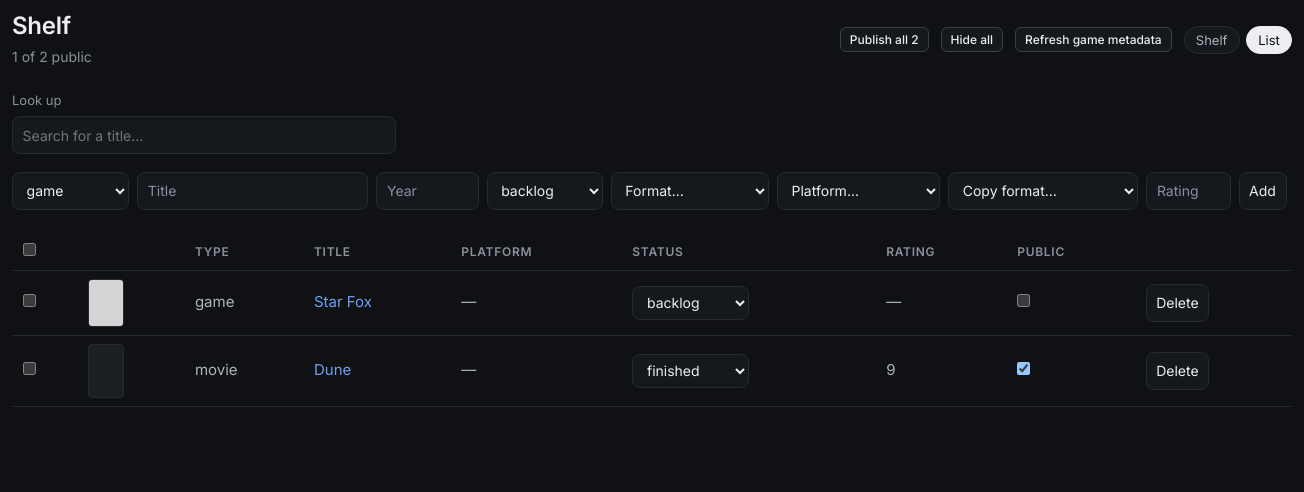
it: AdminCollection › reports a failed toggle rather than showing the item as published
The width and height of the screenshot is (1304, 492).
Click the checkbox named "Public: Star Fox" at (1024, 301), box [1017,294,1030,307]
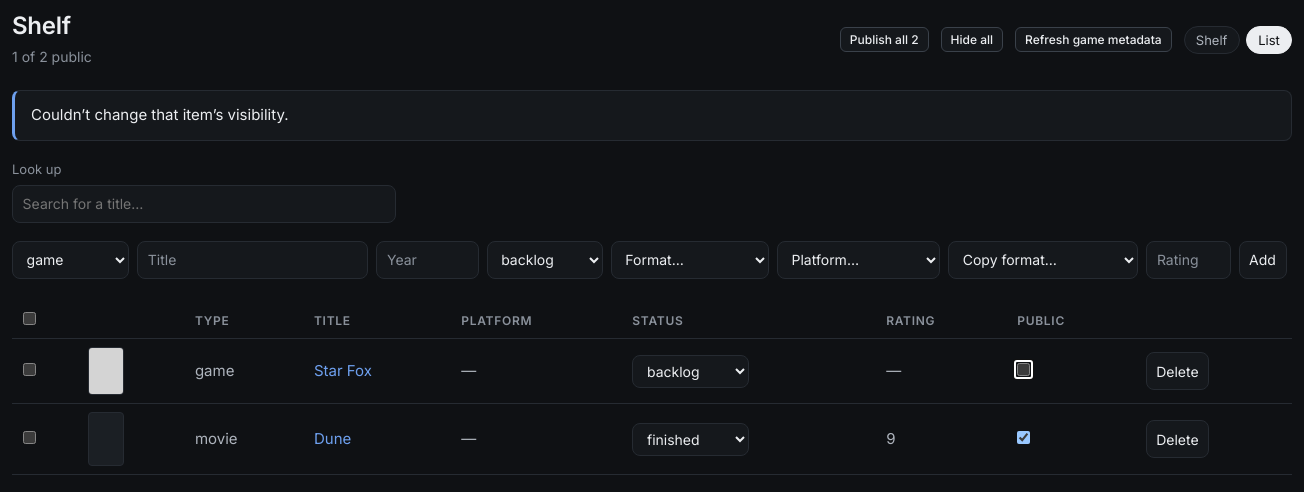
Check: the checkbox named "Public: Star Fox" is not checked, box [1017,363,1030,376]
Check: the text "Couldn’t change that item’s visibility." is shown, box [12,90,1292,141]
